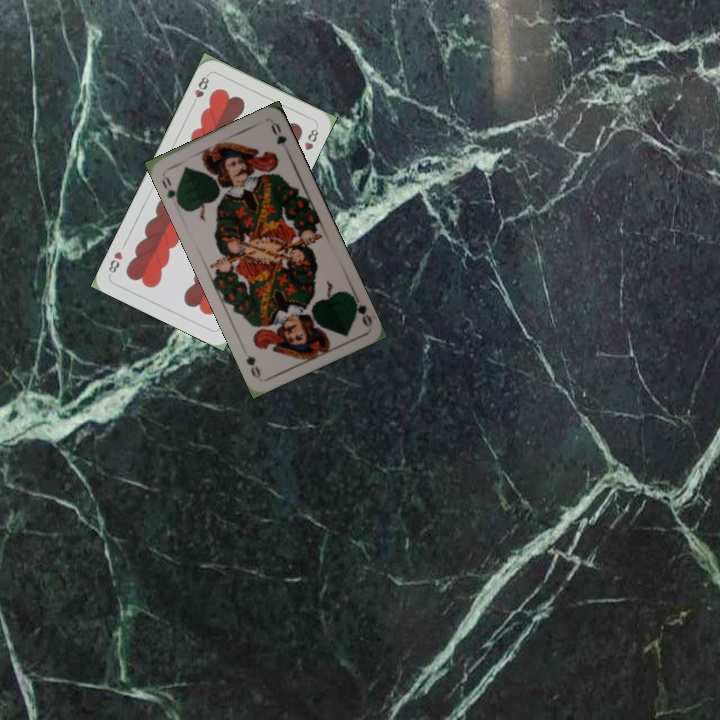GO: (346, 289, 375, 328), (157, 169, 182, 208)
H8: (188, 71, 212, 109)
